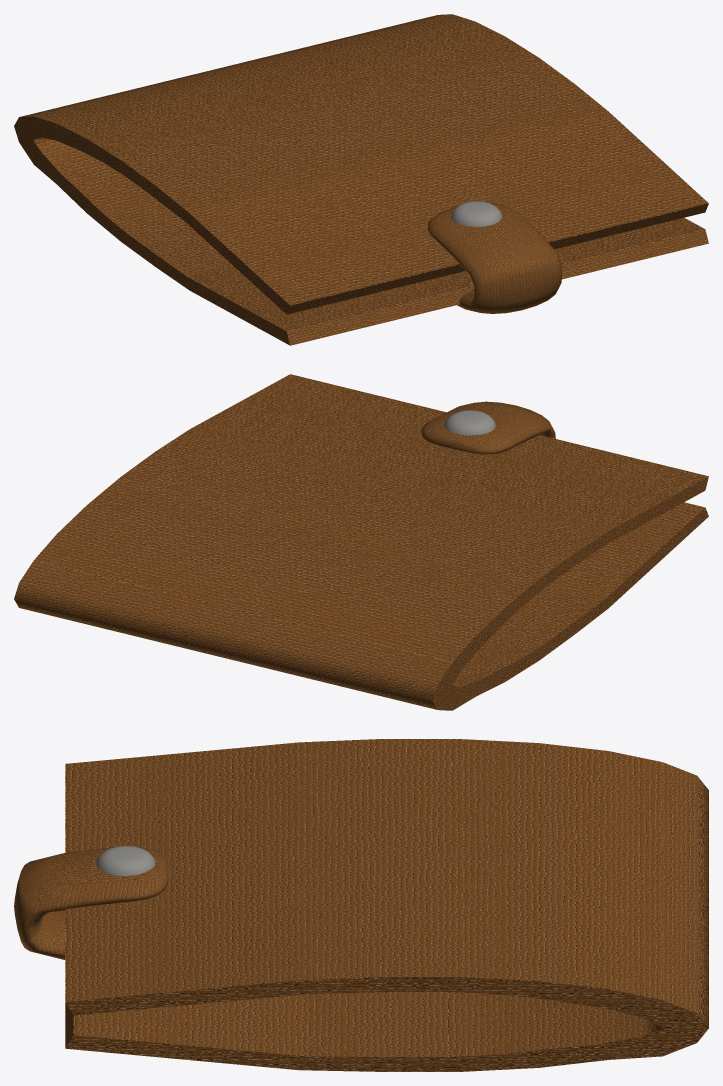
File: Wallet.FBX
3 renders of one model, top to bottom at view 1: azimuth 30°, elevation 25°; view 2: azimuth 150°, elevation 25°; view 3: azimuth 270°, elevation 25°, orthographic. The views are drawn at different scales.
Visible parts, largest first — view 1: Box001, Cylinder001, Cylinder002; view 2: Box001, Cylinder001, Cylinder002; view 3: Box001, Cylinder001, Cylinder002.
Boxes of the visible parts, <box> form: Box001: <box>14,14,708,345</box>; Cylinder001: <box>427,202,562,313</box>; Cylinder002: <box>451,201,501,227</box>; Box001: <box>14,374,708,710</box>; Cylinder001: <box>421,401,555,454</box>; Cylinder002: <box>445,410,495,435</box>; Box001: <box>65,739,708,1071</box>; Cylinder001: <box>14,847,168,959</box>; Cylinder002: <box>96,846,155,876</box>.
Bounding box in the file's own units: 18.71 × 3.71 × 23.09.
Materials: 2 (2 with a texture image).
